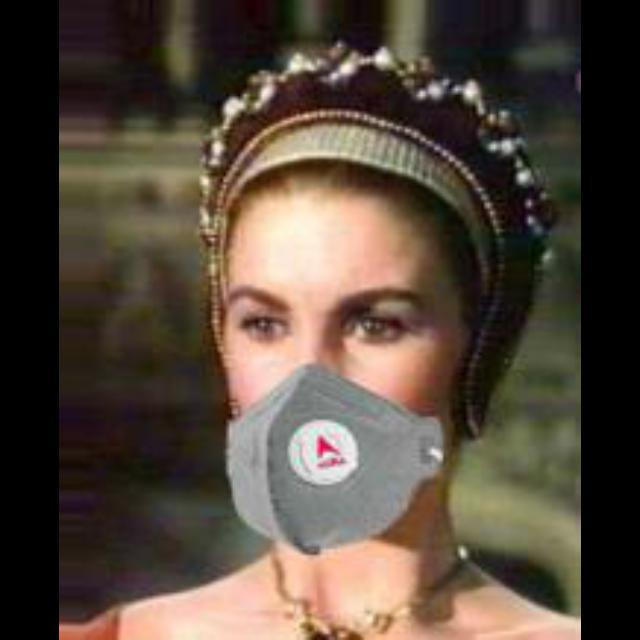suspicion: (189, 94, 506, 542)
